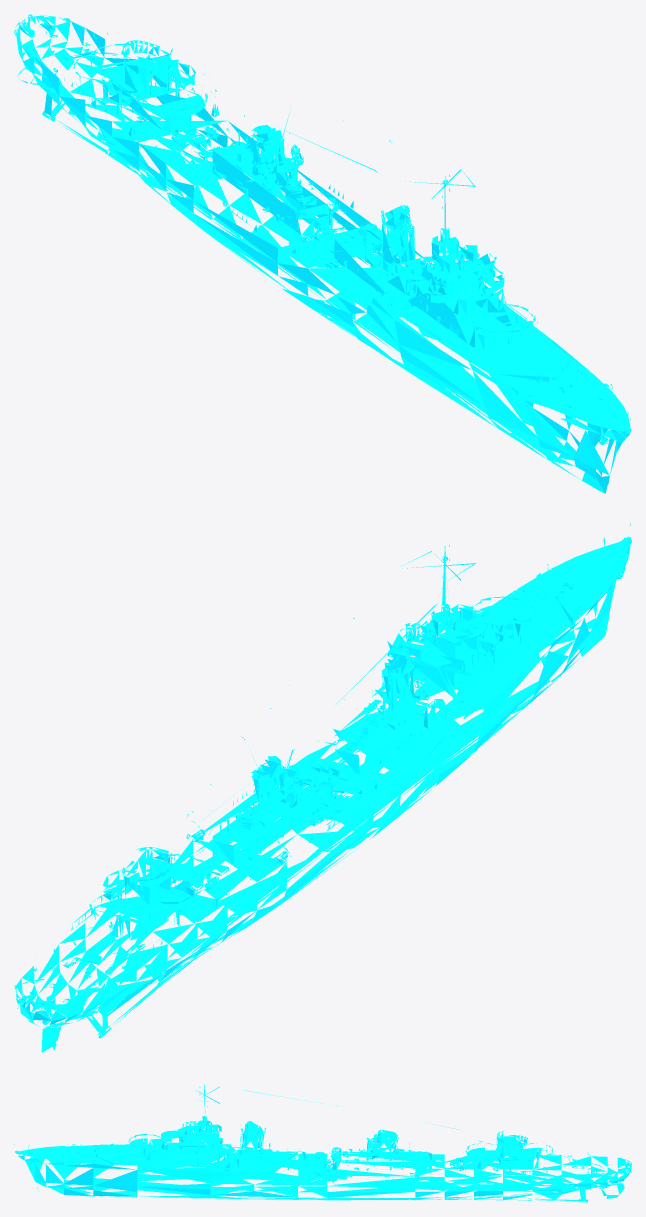
The model's file is TST_TERRIBLE.glb.
3 views of the same model, one above another, from view 1: azimuth 30°, elevation 25°; view 2: azimuth 150°, elevation 25°; view 3: azimuth 270°, elevation 25° (orthographic). The views are drawn at different scales.
Bounding box in the file's own units: 0.822 × 1.83 × 8.83.
